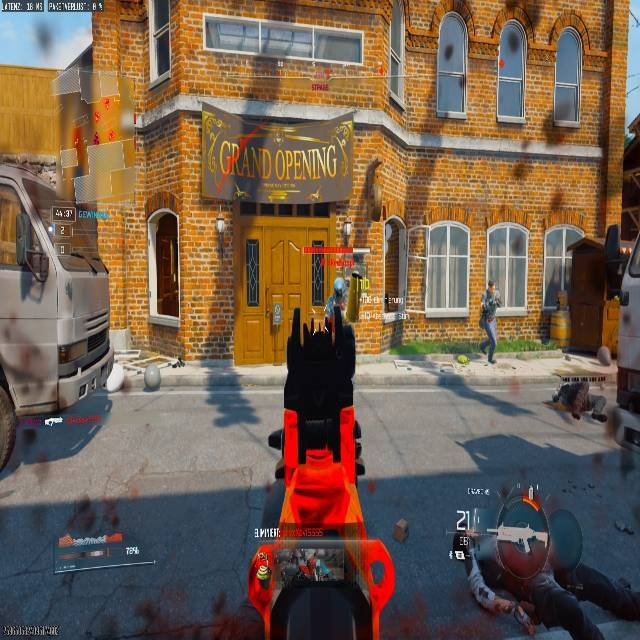head: (332, 277, 347, 296), (485, 285, 497, 299), (488, 280, 496, 291)
player: (453, 491, 610, 638), (328, 248, 362, 330), (478, 280, 501, 364), (323, 275, 348, 325)
